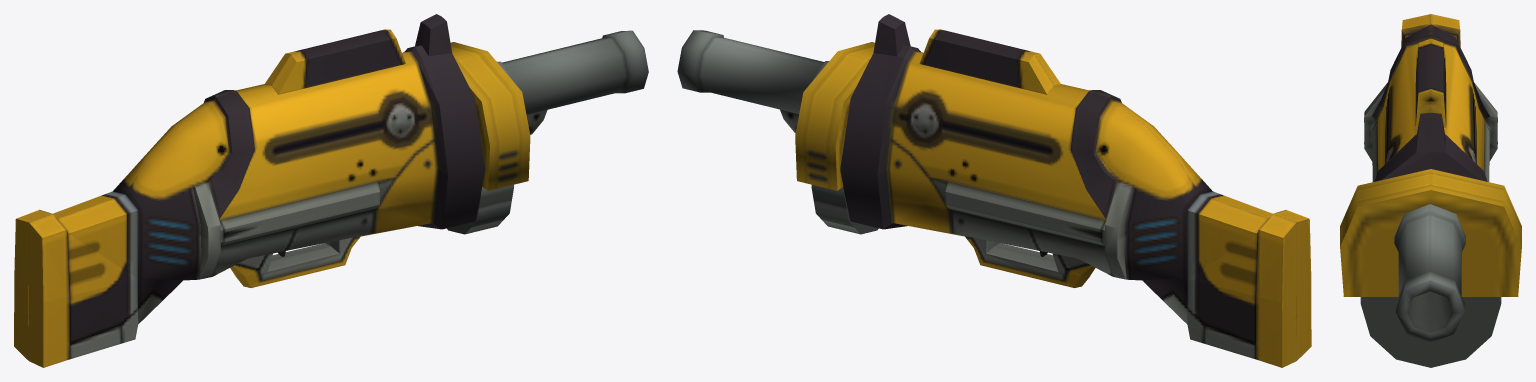
Rendered from Gun_01_1.FBX.
3 renders of one model, left to right at view 1: azimuth 30°, elevation 25°; view 2: azimuth 150°, elevation 25°; view 3: azimuth 270°, elevation 25°, orthographic. The views are drawn at different scales.
Visible parts, largest first — view 1: gun_01_1; view 2: gun_01_1; view 3: gun_01_1.
Part boxes in pixels (box(x1,y1,x2,y2)): gun_01_1: box(14, 14, 648, 367); gun_01_1: box(677, 14, 1311, 367); gun_01_1: box(1340, 14, 1521, 367).
Size of the model in its own units: 186 by 71.6 by 45.29.
